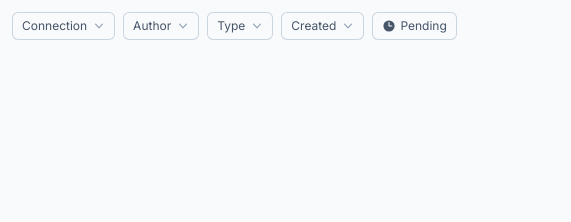
Test case: RequestFilterBar › inline search › narrows authors by name or email, keeping 'Your requests' when it matches
Step 1. Click the button with test id "filter-author" → [161, 26], box x1=123 y1=12 x2=199 y2=40
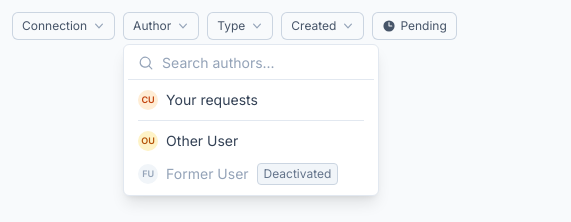
Now the text "Other User" is shown, box x1=166 y1=132 x2=238 y2=149
Step 2. Type "other@" into the field with test id "filter-author-search" → [263, 63], box x1=162 y1=53 x2=364 y2=73
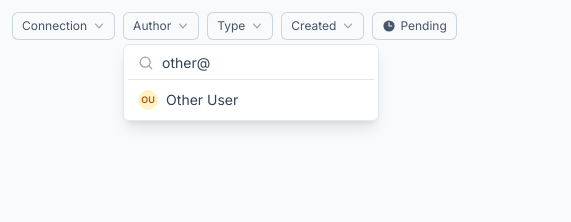
Now the text "Other User" is shown, box x1=166 y1=91 x2=238 y2=108
Now the button with test id "filter-author-mine" is gone
Step 3. Replace the text in the field with test id "filter-author-search" with "your" → [263, 63], box x1=162 y1=53 x2=364 y2=73
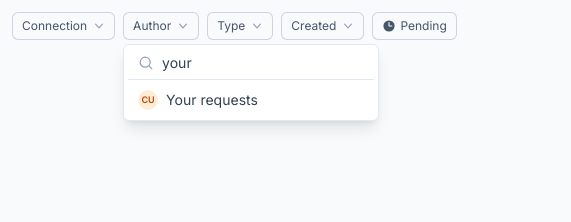
Expected: the button "Other User" is not shown
Now the button with test id "filter-author-mine" is shown, box x1=128 y1=84 x2=374 y2=116
Step 4. Replace the text in the field with test id "filter-author-search" with "other" → [263, 63], box x1=162 y1=53 x2=364 y2=73
Then press Enter
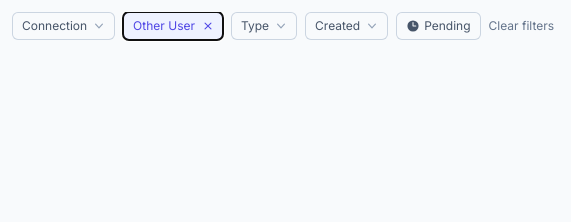
Now the field with test id "filter-author-search" is gone
